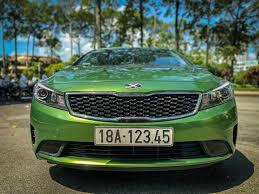number_plate: (95, 125, 173, 146)
